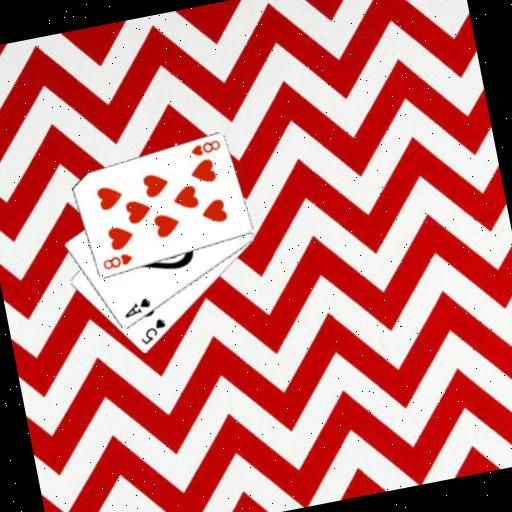5S: (135, 314, 171, 347)
8H: (98, 249, 136, 272), (186, 137, 223, 160)
AS: (119, 295, 154, 321)
